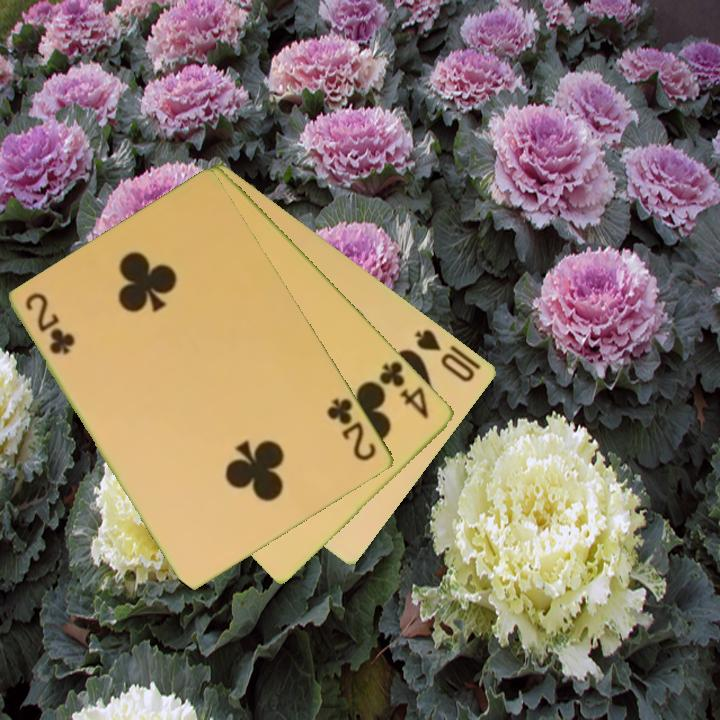10s: (411, 325, 478, 385)
2c: (324, 394, 380, 464), (22, 289, 76, 358)
4c: (376, 357, 432, 422)
